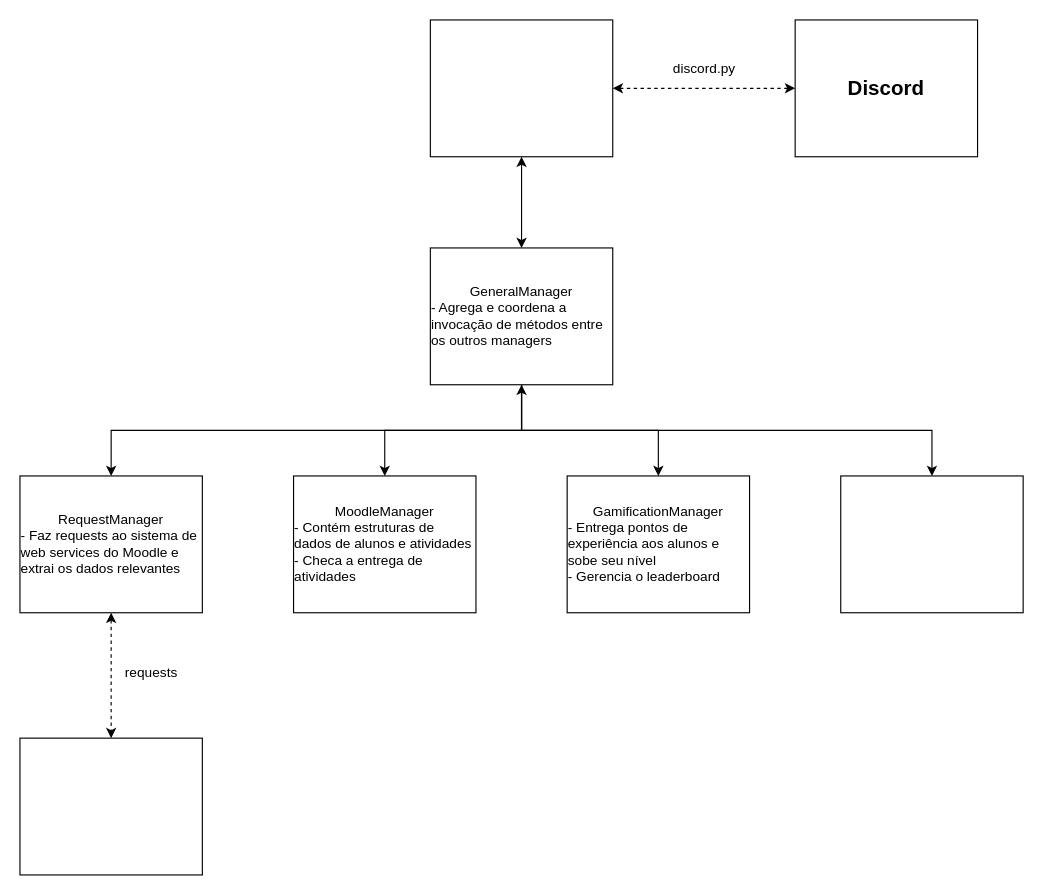
Some shapes in this 1043 by 895 pixel diagram are drawn without their labels. The centre of each missing label's shape, as x and y in pixels:
"MLCompanion - Recebe comandos dos usuários - Envia mensagens proativamente" goes at [521,88].
"Moodle" goes at [110,806].
"ResponseManager - Formata mensagens para serem enviadas aos usuários" goes at [931,544].
